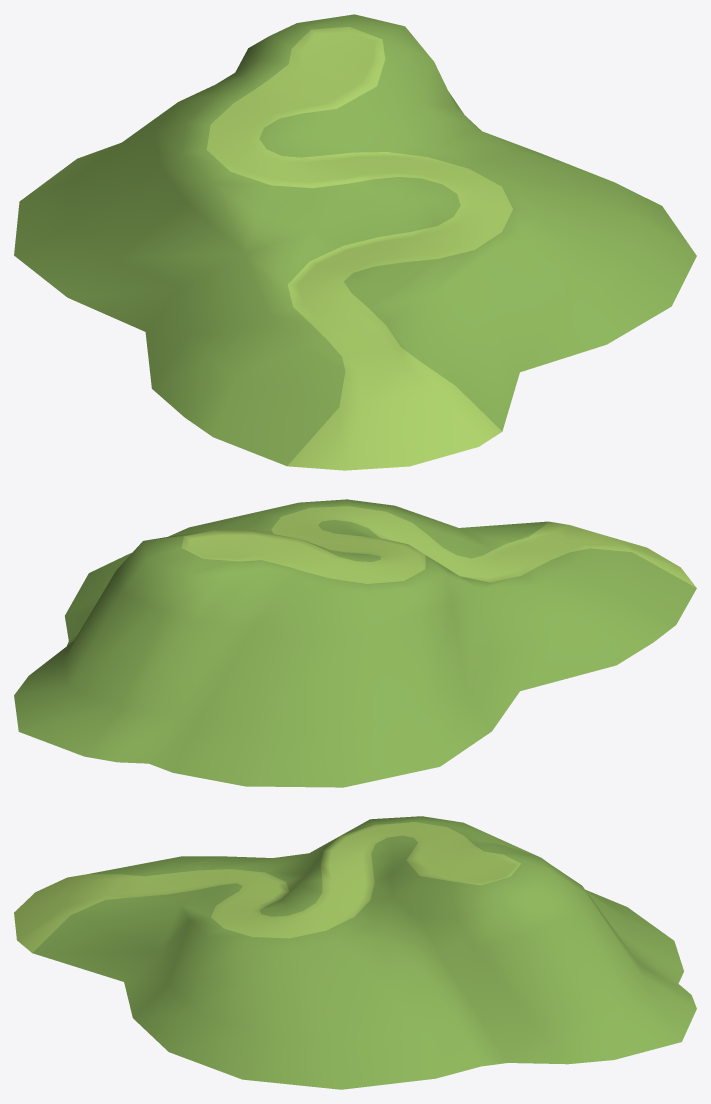
Rendered from model_island_A_01.fbx.
The picture shows the model from 3 angles, top to bottom: view 1: azimuth 30°, elevation 25°; view 2: azimuth 150°, elevation 25°; view 3: azimuth 270°, elevation 25°; orthographic projection. The views are drawn at different scales.
Parts seen in each view (by area): view 1: islandA_geo; view 2: islandA_geo; view 3: islandA_geo.
Part boxes in pixels (bbox=[...]): islandA_geo: bbox=[14, 14, 696, 470]; islandA_geo: bbox=[14, 499, 696, 787]; islandA_geo: bbox=[14, 816, 696, 1089].
Size of the model in its own units: 317 by 87.56 by 400.
